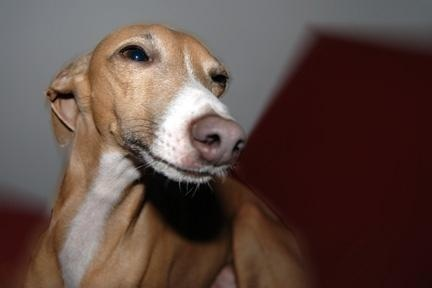dog: (21, 24, 314, 288)
